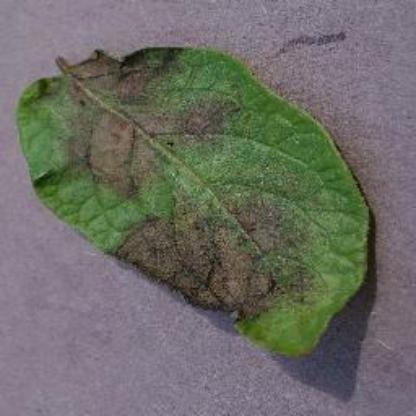Late-Blight: (11, 38, 383, 364)
